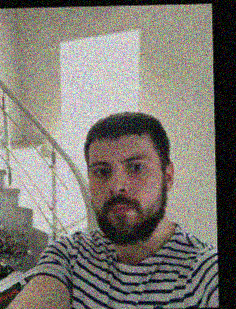without_mask: (89, 150, 162, 246)
